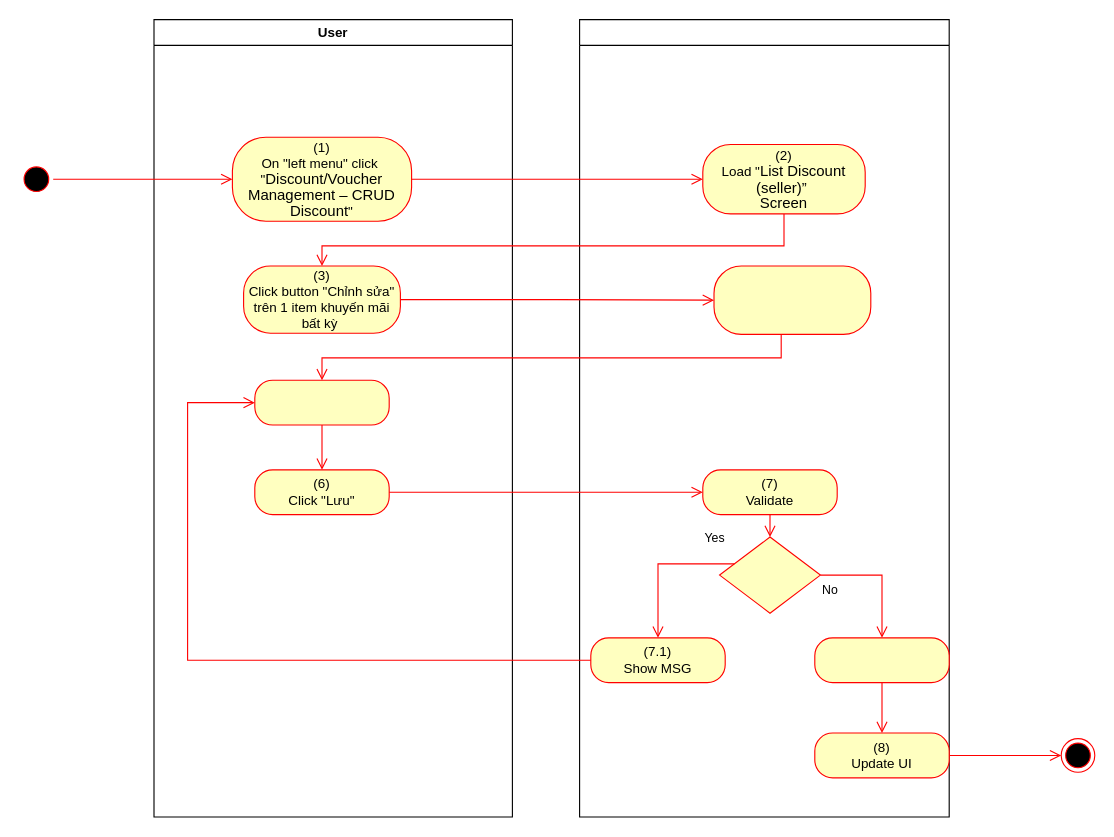
The diagram is 1114 pixels wide and 837 high, and some of its shapes have lost their labels. The shapes that lost their labels are listed below. From the top down, each one's box as (x1, y1, x2, y2) in pixels, then its label:
(713, 265, 871, 334): (4) Load " CRUD Discount "
(254, 379, 389, 425): (5) Giving input
(578, 18, 949, 817): System
(814, 637, 949, 683): (7.2) update Discount to DB
